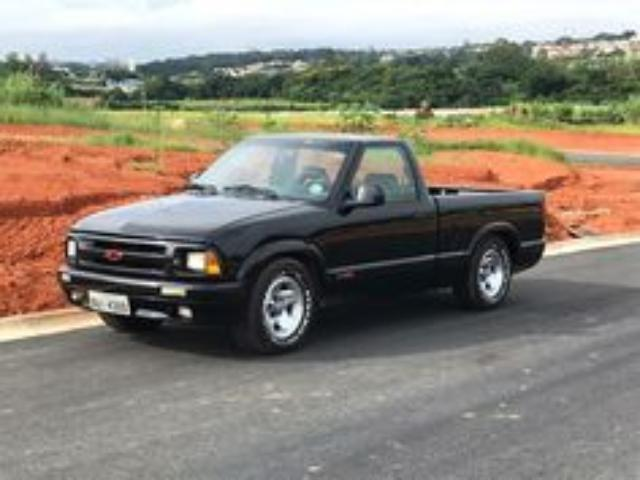pickup-truck: (56, 133, 549, 355)
